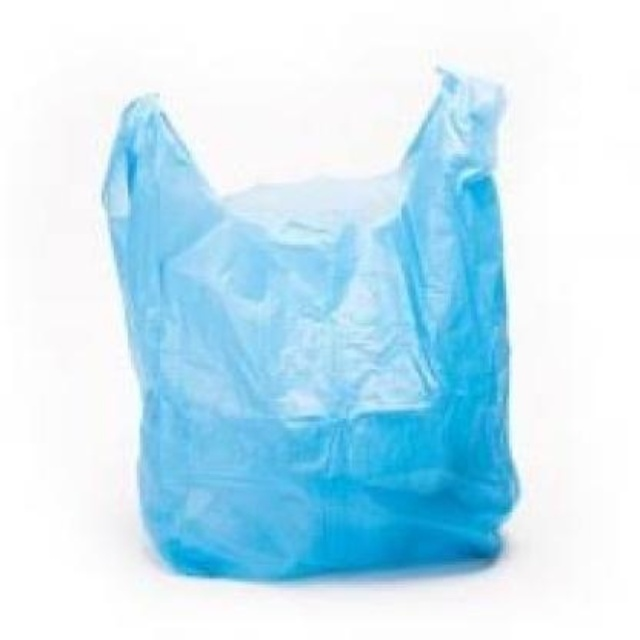trash: (103, 71, 515, 577)
